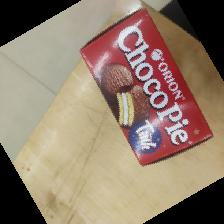Chocopie: (79, 8, 214, 167)
